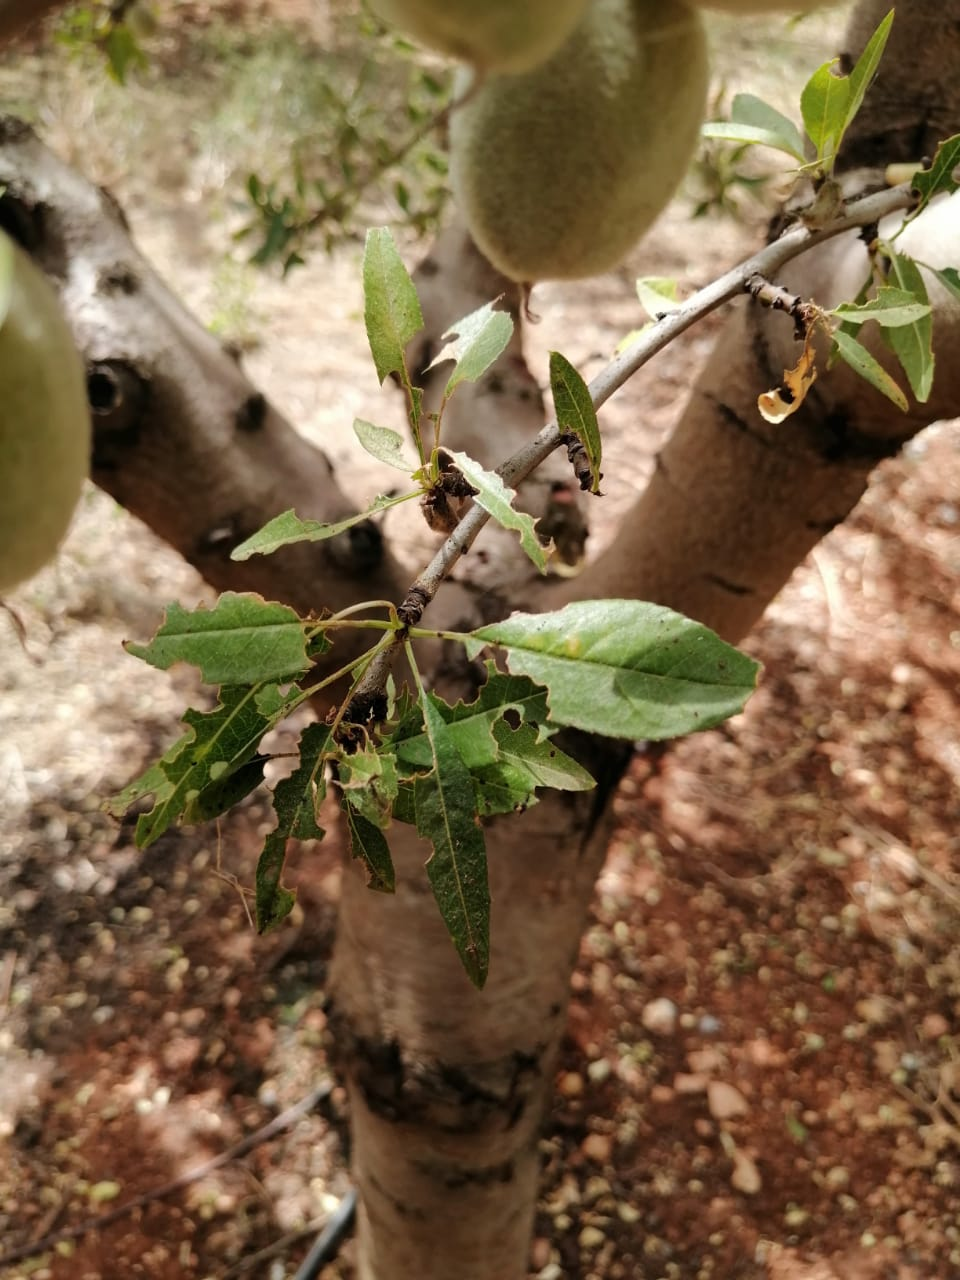othyorinques: (463, 598, 765, 738), (410, 694, 494, 996), (119, 587, 328, 690), (136, 687, 259, 854), (253, 719, 340, 945), (448, 447, 561, 577), (359, 222, 428, 427), (228, 494, 407, 560), (834, 285, 938, 329)
